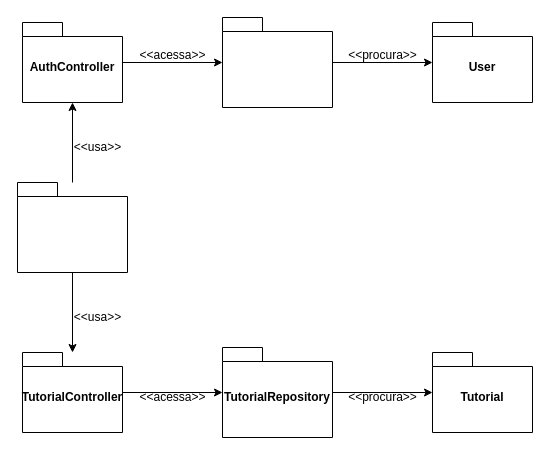
Some shapes in this 550 by 455 pixel diagram are drawn without their labels. The shapes that lost their labels are listed below. From the top down, each one's centre as x and y in pixels, then its label:
At point 277,62: "UserRepository".
At point 72,227: "LearningPlatform Application".
